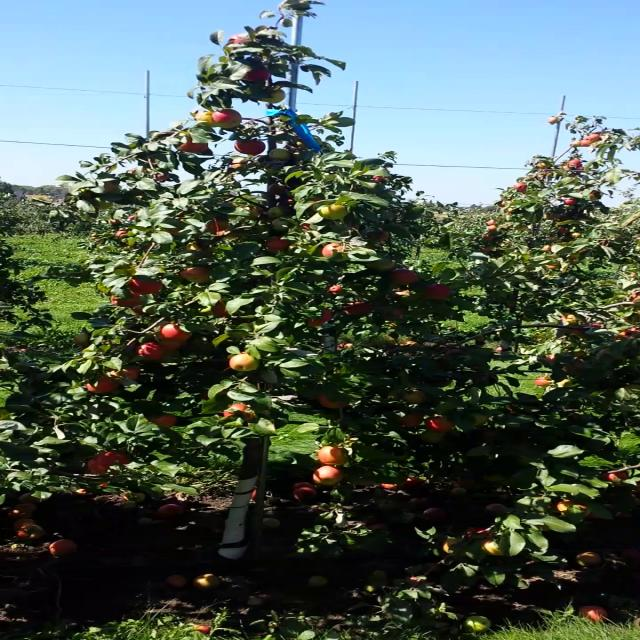apple: (86, 452, 132, 476), (317, 444, 345, 467), (128, 277, 162, 295), (556, 499, 590, 517), (313, 466, 342, 486), (304, 308, 333, 328), (161, 323, 193, 341), (137, 342, 169, 360), (214, 108, 242, 128), (180, 266, 210, 284), (316, 204, 349, 220), (176, 137, 208, 153), (85, 377, 116, 393), (108, 366, 138, 382), (230, 355, 260, 371), (223, 403, 253, 419), (108, 293, 142, 307), (423, 284, 454, 299), (398, 410, 423, 428), (317, 393, 344, 409), (427, 417, 454, 433), (235, 140, 265, 154), (342, 301, 372, 315), (390, 270, 419, 284), (161, 334, 186, 350), (195, 110, 217, 128), (207, 220, 231, 236), (244, 68, 271, 82), (260, 89, 286, 103), (149, 414, 175, 428), (481, 539, 503, 555), (403, 389, 425, 405), (602, 471, 629, 484), (211, 300, 230, 318), (267, 236, 289, 251), (466, 527, 493, 539), (323, 243, 345, 257), (442, 538, 459, 554), (228, 33, 250, 45), (270, 148, 292, 159), (617, 328, 638, 338), (532, 376, 553, 386), (74, 333, 90, 346), (268, 205, 284, 217), (557, 314, 578, 323), (231, 158, 247, 169), (390, 290, 412, 298), (446, 348, 465, 356), (104, 182, 118, 192), (395, 308, 405, 320), (188, 243, 202, 251), (379, 232, 390, 242), (132, 306, 143, 316), (156, 174, 172, 180), (116, 230, 128, 238), (546, 354, 557, 362), (630, 294, 639, 303), (128, 213, 137, 221), (373, 176, 383, 182), (588, 323, 602, 327), (312, 197, 325, 201), (302, 224, 310, 230), (131, 168, 137, 174), (239, 351, 249, 354)
